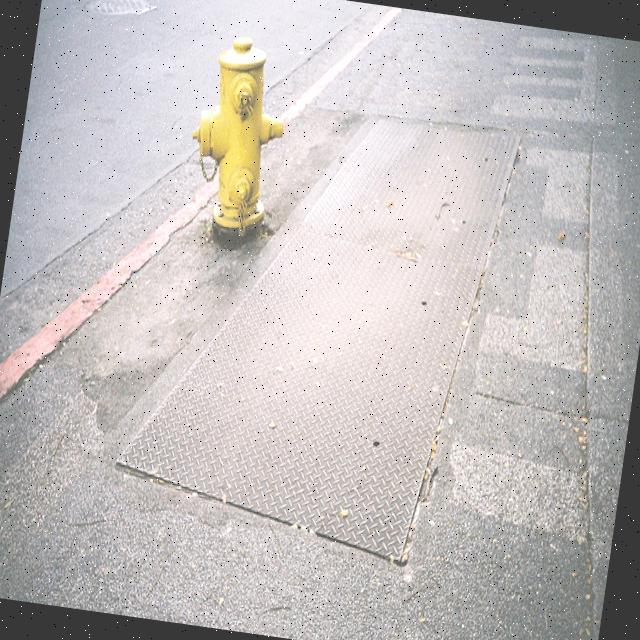fire_hydrant: (179, 30, 295, 243)
